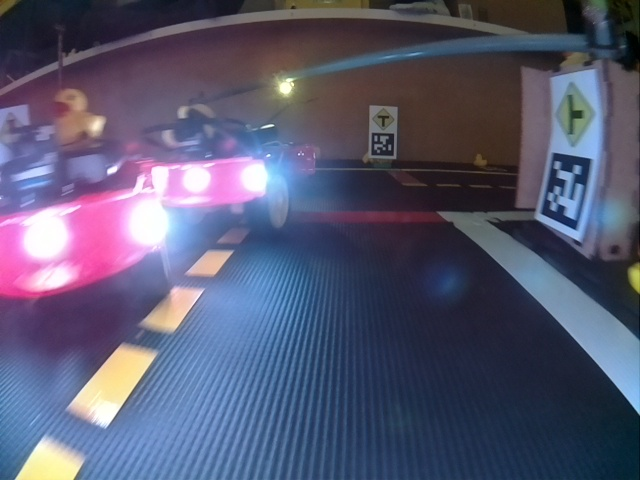Duckie: (52, 89, 104, 141), (474, 154, 486, 166), (364, 152, 372, 162)
Duckiebot: (2, 151, 167, 302), (137, 127, 315, 229)
Intersection sign: (552, 78, 600, 150), (371, 107, 396, 131)
QR code: (538, 153, 593, 232), (371, 133, 396, 157)
Traffic light: (275, 77, 294, 99)
